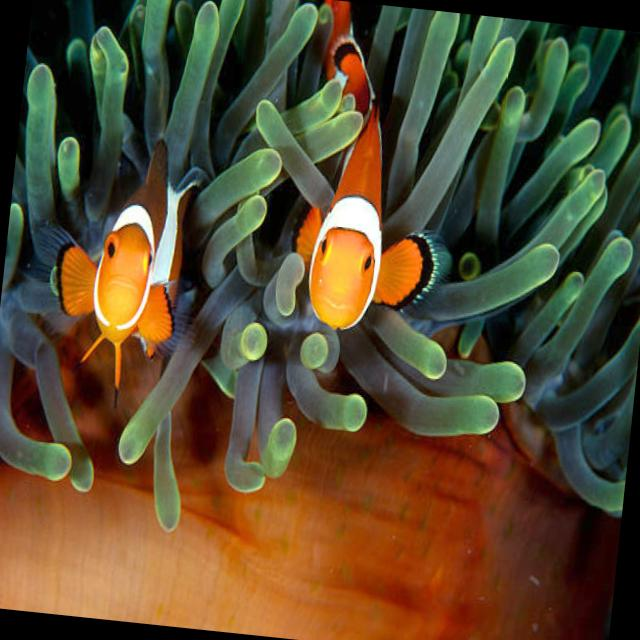ClownFish: (283, 0, 465, 346), (42, 120, 193, 407)
